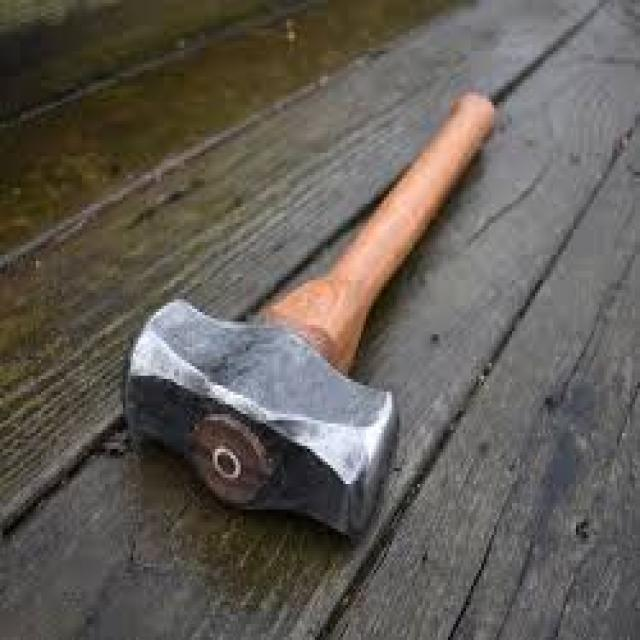hammer: (116, 76, 504, 548)
